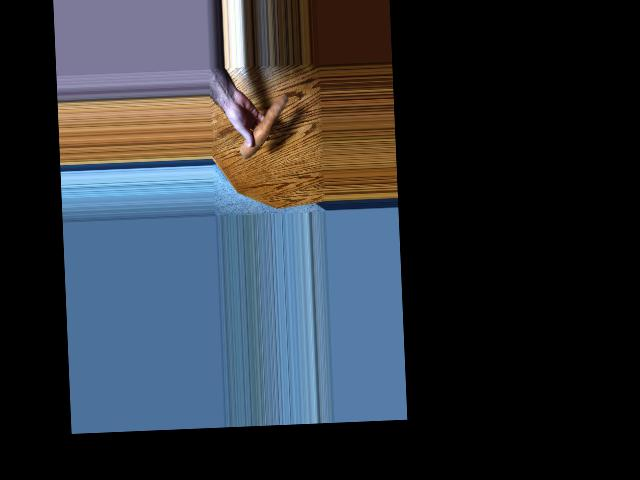sweet_potato: (236, 95, 288, 153)
